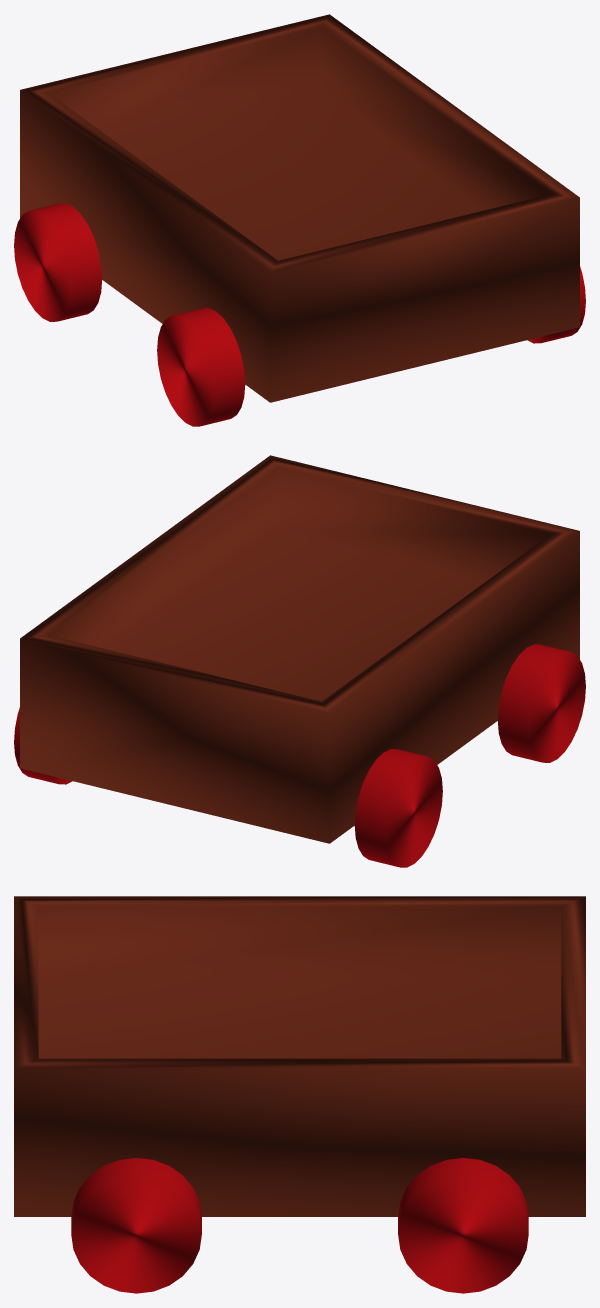
The model's file is toybox.fbx.
The picture shows the model from 3 angles, top to bottom: view 1: azimuth 30°, elevation 25°; view 2: azimuth 150°, elevation 25°; view 3: azimuth 270°, elevation 25°; orthographic projection. The views are drawn at different scales.
Parts seen in each view (by area): view 1: Mesh; view 2: Mesh; view 3: Mesh.
Part boxes in pixels (x1,y1,x2,y2): Mesh: [14, 14, 585, 426]; Mesh: [14, 455, 585, 867]; Mesh: [14, 896, 585, 1293].
Size of the model in its own units: 60 by 28 by 70.
